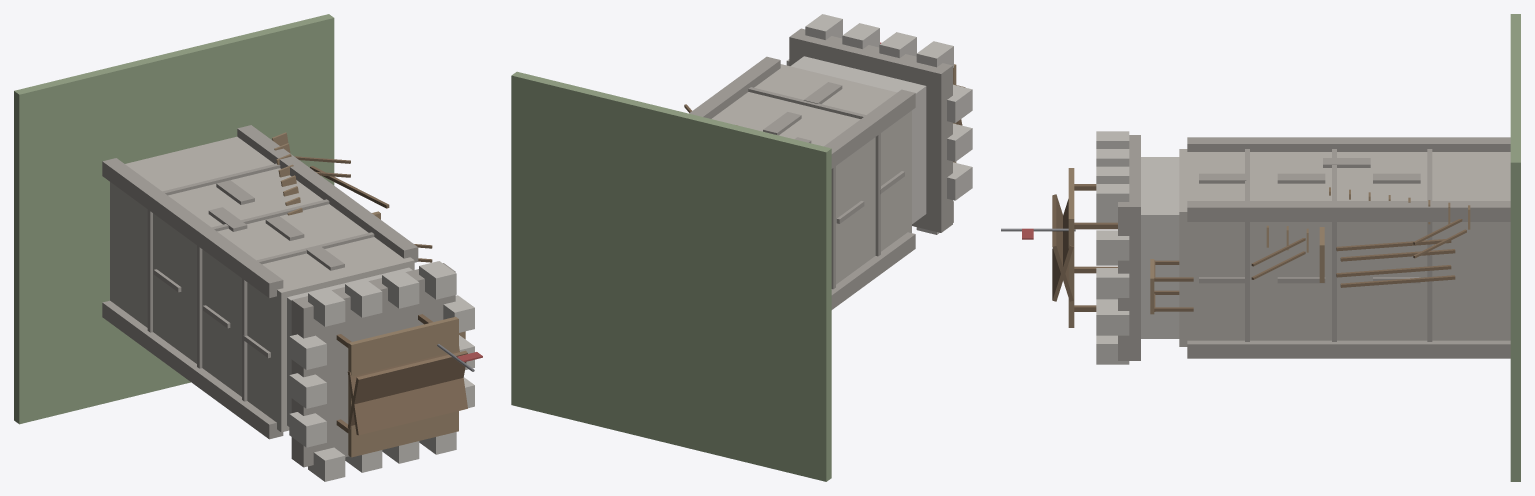
The model's file is atalaya_3d.glb.
3 views of the same model, side by side, from view 1: azimuth 30°, elevation 25°; view 2: azimuth 150°, elevation 25°; view 3: azimuth 270°, elevation 25° (orthographic). The views are drawn at different scales.
Parts seen in each view (by area): view 1: ground_plinth, tower_body, parapet_ring, canopy_roof, buttress_1, roof_slab_0, buttress_0, buttress_3, roof_slab_1, trim_band_0, trim_band_2, trim_band_1 (+16 smaller); view 2: ground_plinth, tower_body, parapet_ring, tower_upper, buttress_1, buttress_0, buttress_3, trim_band_2, merlon_10, merlon_8, merlon_12, merlon_1 (+4 smaller); view 3: tower_body, buttress_3, tower_upper, buttress_2, ground_plinth, buttress_1, parapet_ring, canopy_roof, merlon_9, merlon_13, merlon_11, trim_band_0 (+12 smaller).
Boxes of the visible parts, left/top/right/bottom form: ground_plinth: left=14, top=14, right=334, bottom=424; tower_body: left=110, top=136, right=414, bottom=432; parapet_ring: left=291, top=263, right=455, bottom=467; canopy_roof: left=348, top=316, right=458, bottom=457; buttress_1: left=102, top=158, right=283, bottom=298; roof_slab_0: left=347, top=346, right=467, bottom=435; buttress_0: left=102, top=300, right=283, bottom=439; buttress_3: left=237, top=125, right=418, bottom=262; roof_slab_1: left=348, top=350, right=467, bottom=429; trim_band_0: left=147, top=163, right=280, bottom=332; trim_band_2: left=242, top=232, right=374, bottom=401; trim_band_1: left=197, top=199, right=329, bottom=368; ground_plinth: left=511, top=71, right=831, bottom=481; tower_body: left=712, top=64, right=911, bottom=284; parapet_ring: left=789, top=28, right=952, bottom=232; tower_upper: left=790, top=56, right=926, bottom=223; buttress_1: left=824, top=89, right=915, bottom=168; buttress_0: left=831, top=232, right=915, bottom=309; buttress_3: left=689, top=56, right=780, bottom=118; trim_band_2: left=748, top=87, right=880, bottom=256; merlon_10: left=947, top=123, right=972, bottom=161; merlon_8: left=947, top=162, right=972, bottom=200; merlon_12: left=947, top=84, right=972, bottom=123; merlon_1: left=916, top=41, right=953, bottom=67; tower_body: left=1179, top=149, right=1510, bottom=346; buttress_3: left=1187, top=201, right=1510, bottom=221; tower_upper: left=1141, top=157, right=1179, bottom=338; buttress_2: left=1187, top=340, right=1510, bottom=358; ground_plinth: left=1510, top=14, right=1520, bottom=481; buttress_1: left=1187, top=137, right=1510, bottom=151; parapet_ring: left=1118, top=135, right=1140, bottom=360; canopy_roof: left=1068, top=168, right=1074, bottom=327; merlon_9: left=1096, top=305, right=1129, bottom=335; merlon_13: left=1096, top=230, right=1129, bottom=260; merlon_11: left=1096, top=268, right=1129, bottom=297; trim_band_0: left=1427, top=149, right=1432, bottom=341.
Size of the model in its own units: 8.5 by 8.5 by 12.55.
